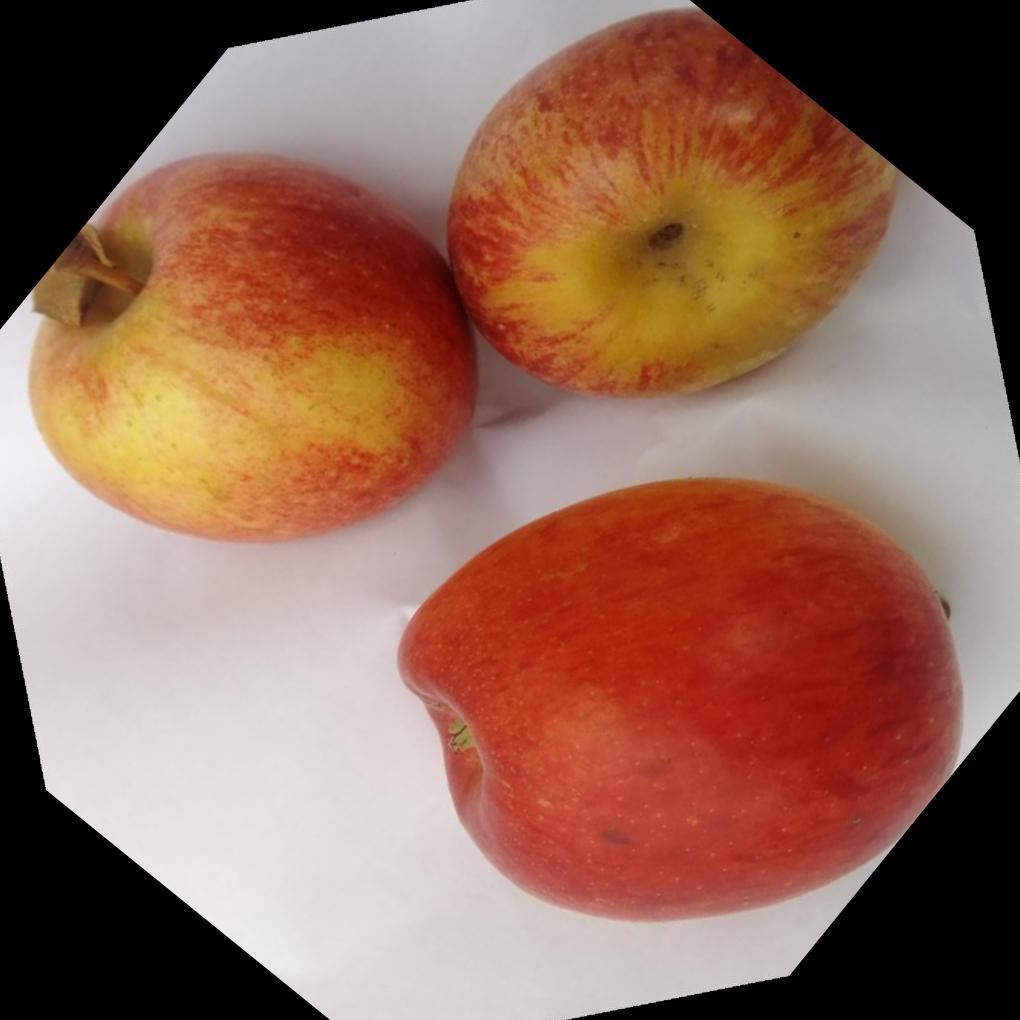FreshGuava: (27, 9, 903, 545), (398, 478, 968, 927)
